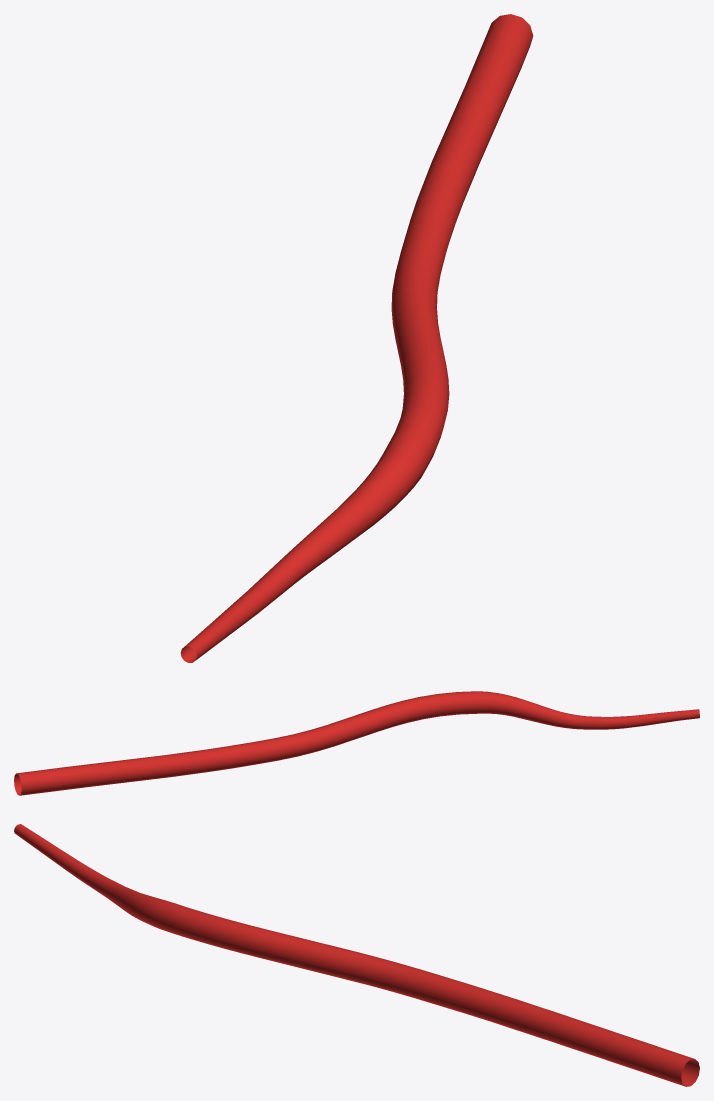
The model's file is circulatorio-superior-labial-artery-l.glb.
3 views of the same model, one above another, from view 1: azimuth 30°, elevation 25°; view 2: azimuth 150°, elevation 25°; view 3: azimuth 270°, elevation 25° (orthographic). The views are drawn at different scales.
Parts seen in each view (by area): view 1: Superior labial artery.l; view 2: Superior labial artery.l; view 3: Superior labial artery.l.
Boxes of the visible parts, x1,y1,x2,y2 form: Superior labial artery.l: (180,14,533,662); Superior labial artery.l: (14,691,699,795); Superior labial artery.l: (14,824,699,1086).
Size of the model in its own units: 0.0219 by 0.00186 by 0.0234.
